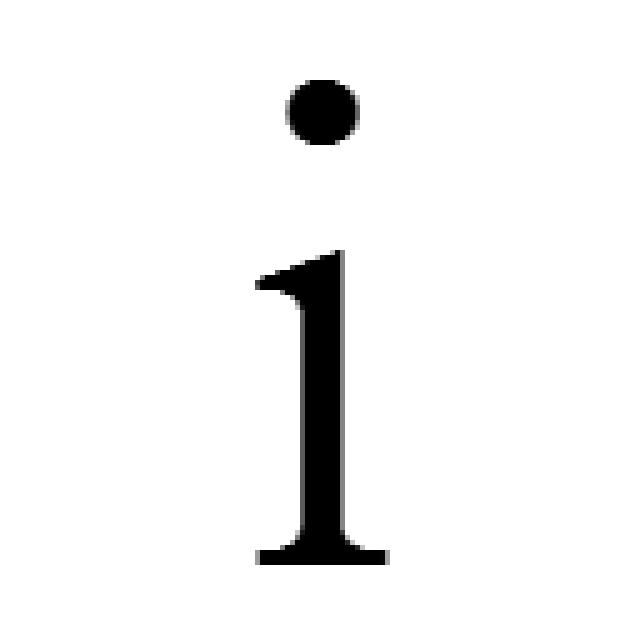I: (230, 75, 412, 562)
